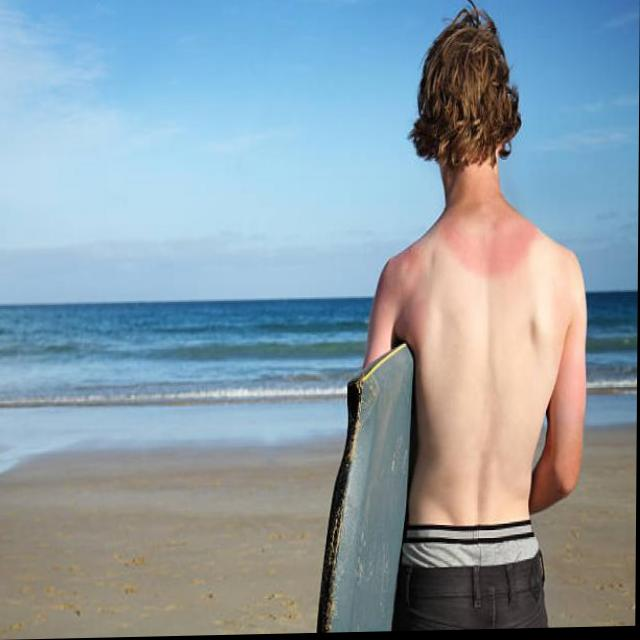no helmet: (399, 25, 518, 181)
